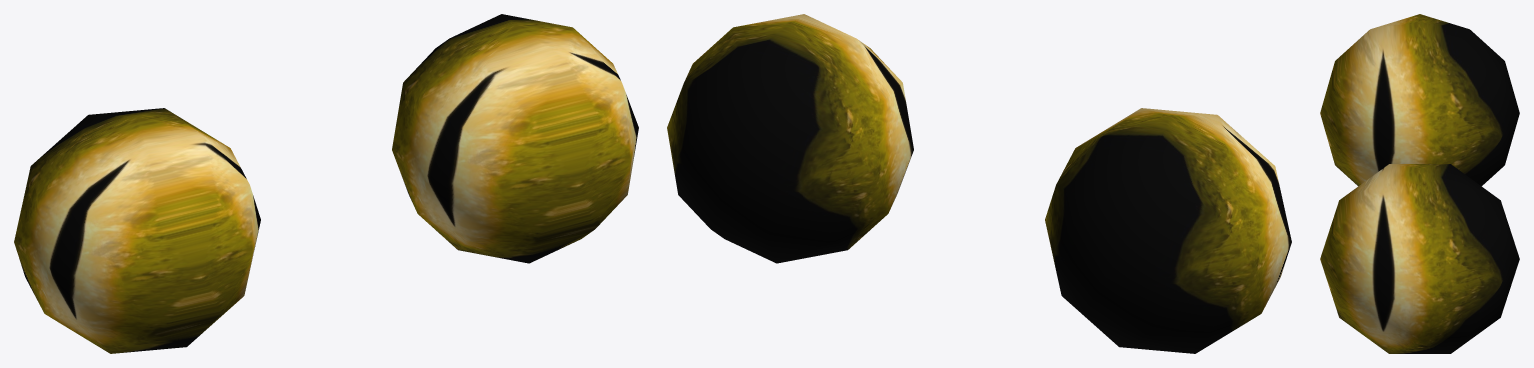
Rendered from eyes.fbx.
3 renders of one model, left to right at view 1: azimuth 30°, elevation 25°; view 2: azimuth 150°, elevation 25°; view 3: azimuth 270°, elevation 25°, orthographic. The views are drawn at different scales.
Visible parts, largest first — view 1: Icosphere; view 2: Icosphere; view 3: Icosphere.
Boxes of the visible parts, x1,y1,x2,y2 form: Icosphere: (14,14,638,353); Icosphere: (667,14,1291,353); Icosphere: (1320,14,1519,353).
Size of the model in its own units: 39.43 by 14.72 by 14.72.
